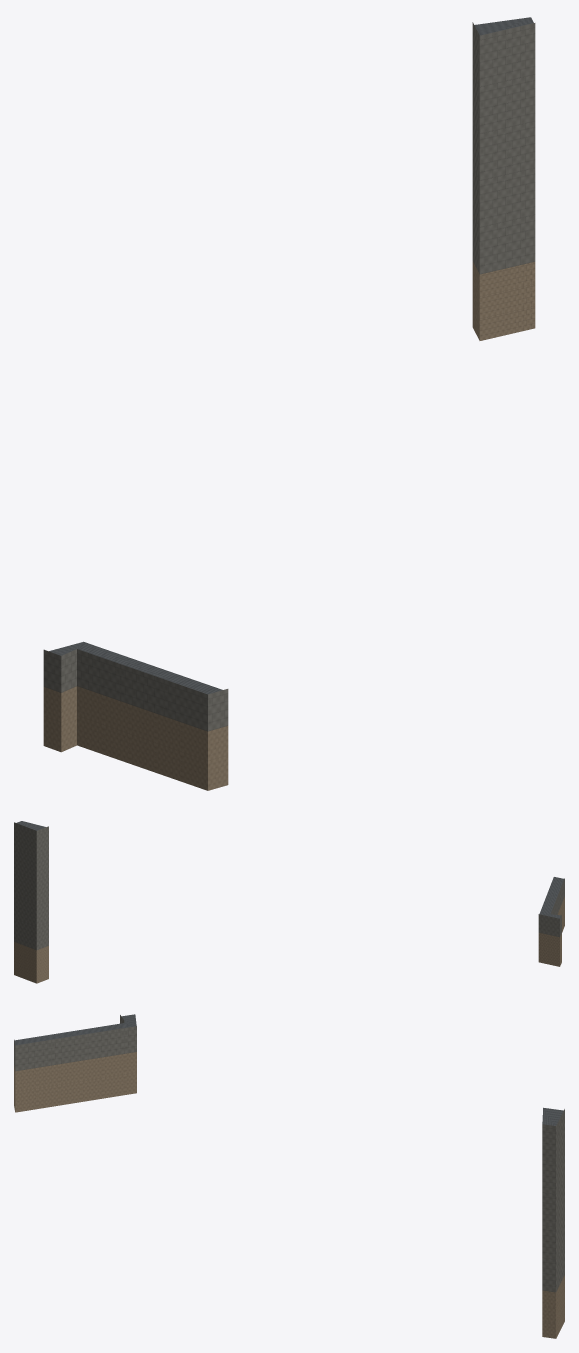
File: bld_c4_-3_564.gltf
3 renders of one model, top to bottom at view 1: azimuth 30°, elevation 25°; view 2: azimuth 150°, elevation 25°; view 3: azimuth 270°, elevation 25°, orthographic. The views are drawn at different scales.
Visible parts, largest first — view 1: bld_c4_-3_564; view 2: bld_c4_-3_564; view 3: bld_c4_-3_564.
Part boxes in pixels (x1,y1,x2,y2): bld_c4_-3_564: [43, 17, 535, 790]; bld_c4_-3_564: [14, 821, 564, 983]; bld_c4_-3_564: [14, 1014, 564, 1338].
Size of the model in its own units: 63.23 by 24.33 by 54.88.
4 materials, 4 textured.
